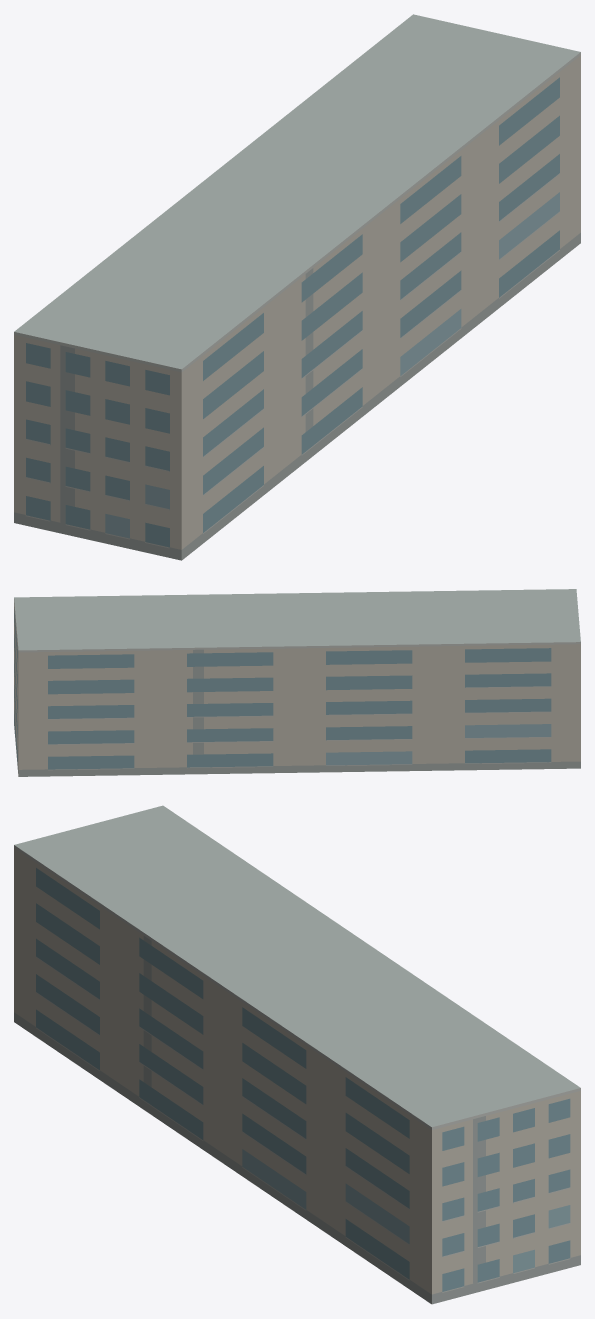
Rendered from residential-3ae23798-c246-4ac5-91a1-92498e46ccf9.glb.
3 renders of one model, top to bottom at view 1: azimuth 30°, elevation 25°; view 2: azimuth 150°, elevation 25°; view 3: azimuth 270°, elevation 25°, orthographic. The views are drawn at different scales.
Parts seen in each view (by area): view 1: residential-3ae23798-c246-4ac5-91a1-92498e46ccf9.tmp; view 2: residential-3ae23798-c246-4ac5-91a1-92498e46ccf9.tmp; view 3: residential-3ae23798-c246-4ac5-91a1-92498e46ccf9.tmp.
Boxes of the visible parts, left/top/right/bottom form: residential-3ae23798-c246-4ac5-91a1-92498e46ccf9.tmp: left=14, top=14, right=580, bottom=560; residential-3ae23798-c246-4ac5-91a1-92498e46ccf9.tmp: left=14, top=589, right=580, bottom=776; residential-3ae23798-c246-4ac5-91a1-92498e46ccf9.tmp: left=14, top=805, right=580, bottom=1304.
Bounding box in the file's own units: 59.43 × 15.25 × 44.24.
